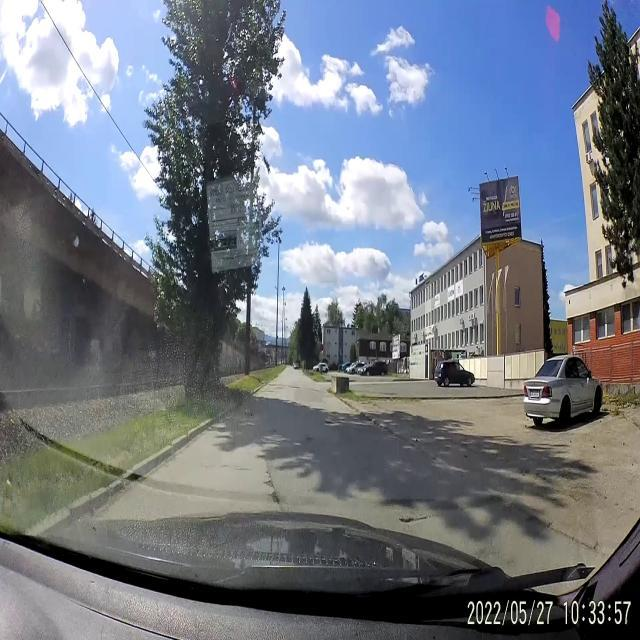Pothole: (262, 474, 282, 508), (396, 510, 428, 530)
